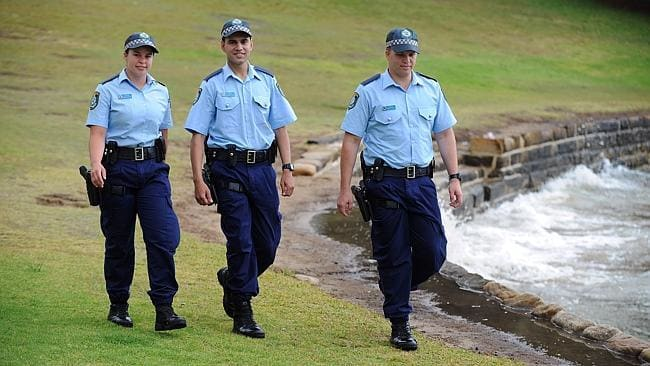Person: (337, 28, 462, 351), (188, 19, 297, 338), (85, 31, 187, 328)
